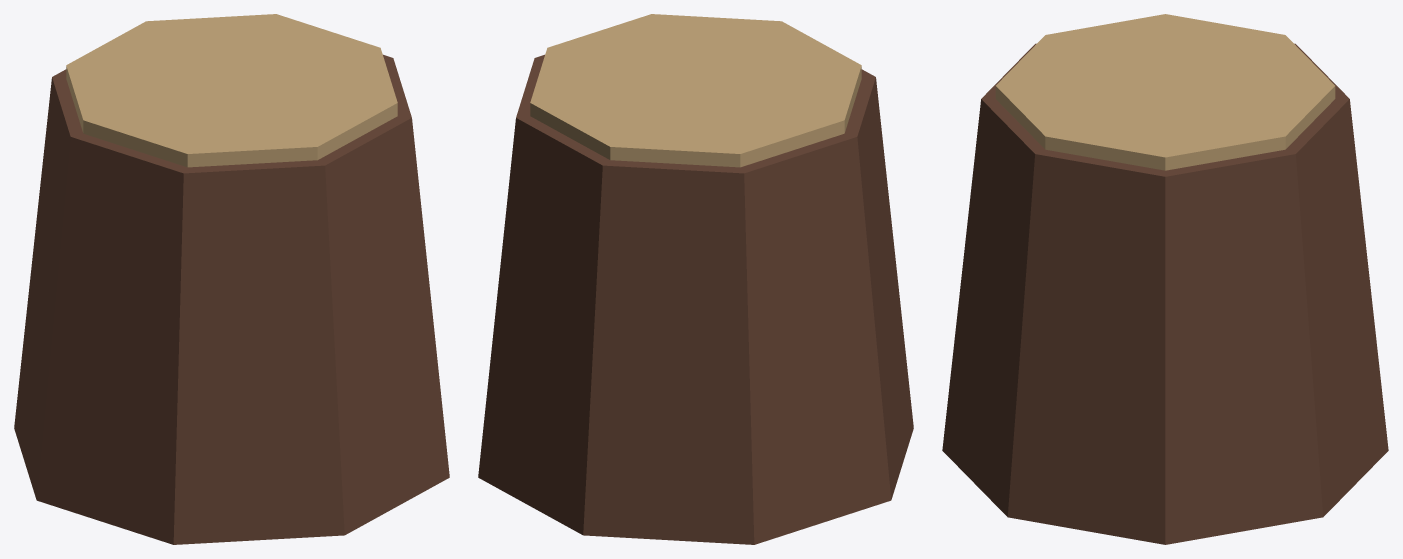
Rendered from prop_stump.glb.
3 renders of one model, left to right at view 1: azimuth 30°, elevation 25°; view 2: azimuth 150°, elevation 25°; view 3: azimuth 270°, elevation 25°, orthographic.
Parts seen in each view (by area): view 1: Geometry; view 2: Geometry; view 3: Geometry.
Boxes of the visible parts, box(x1,y1,x2,y2) form: Geometry: box(14, 14, 449, 544); Geometry: box(478, 14, 913, 544); Geometry: box(942, 14, 1388, 544).
Size of the model in its own units: 0.46 by 0.415 by 0.46.
